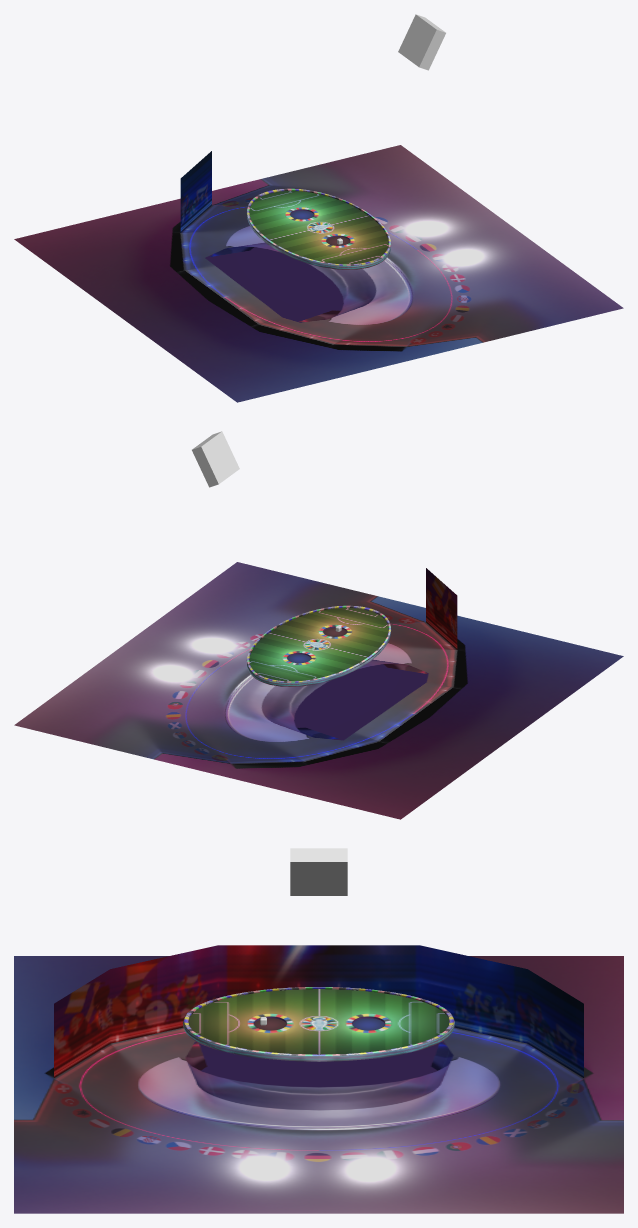
File: dice rolling 5.glb
The picture shows the model from 3 angles, top to bottom: view 1: azimuth 30°, elevation 25°; view 2: azimuth 150°, elevation 25°; view 3: azimuth 270°, elevation 25°; orthographic projection. The views are drawn at different scales.
Parts seen in each view (by area): view 1: table-edge, table, camera; view 2: table-edge, table, camera; view 3: table-edge, table, camera.
Part boxes in pixels (<box>): table-edge: <box>14,145,623,402</box>; table: <box>249,191,388,264</box>; camera: <box>398,14,445,70</box>; table-edge: <box>14,562,623,819</box>; table: <box>249,608,388,681</box>; camera: <box>192,431,239,487</box>; table-edge: <box>14,945,623,1213</box>; table: <box>188,989,449,1054</box>; camera: <box>290,848,347,895</box>.
Bounding box in the file's own units: 21.21 × 11.97 × 21.21.
2 materials, 2 textured.
